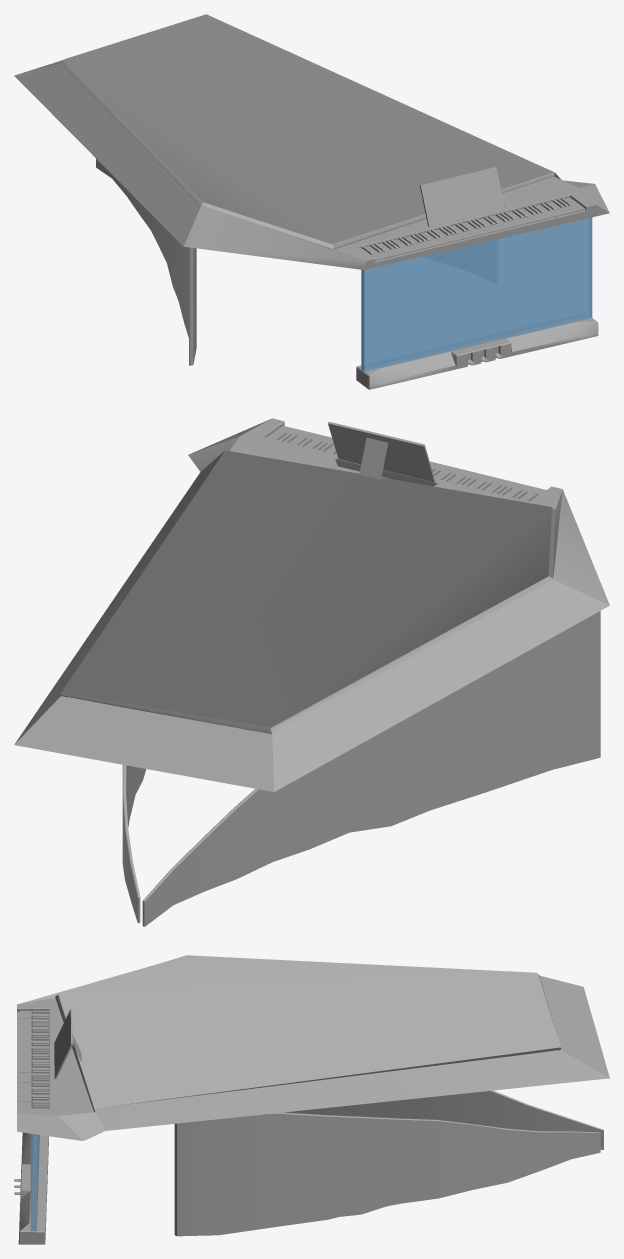
The model's file is piano_SM (1).fbx.
The picture shows the model from 3 angles, top to bottom: view 1: azimuth 30°, elevation 25°; view 2: azimuth 150°, elevation 25°; view 3: azimuth 270°, elevation 25°; orthographic projection. The views are drawn at different scales.
Visible parts, largest first — view 1: piano_SM; view 2: piano_SM; view 3: piano_SM.
Boxes of the visible parts, x1,y1,x2,y2 form: piano_SM: (14,14,609,389); piano_SM: (14,418,609,926); piano_SM: (14,955,609,1244).
Size of the model in its own units: 291 by 131 by 413.
